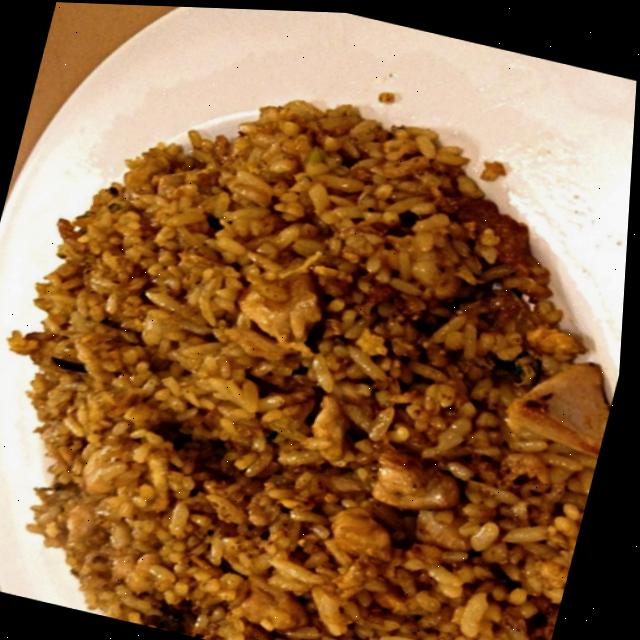米饭主食: (0, 10, 640, 640)
